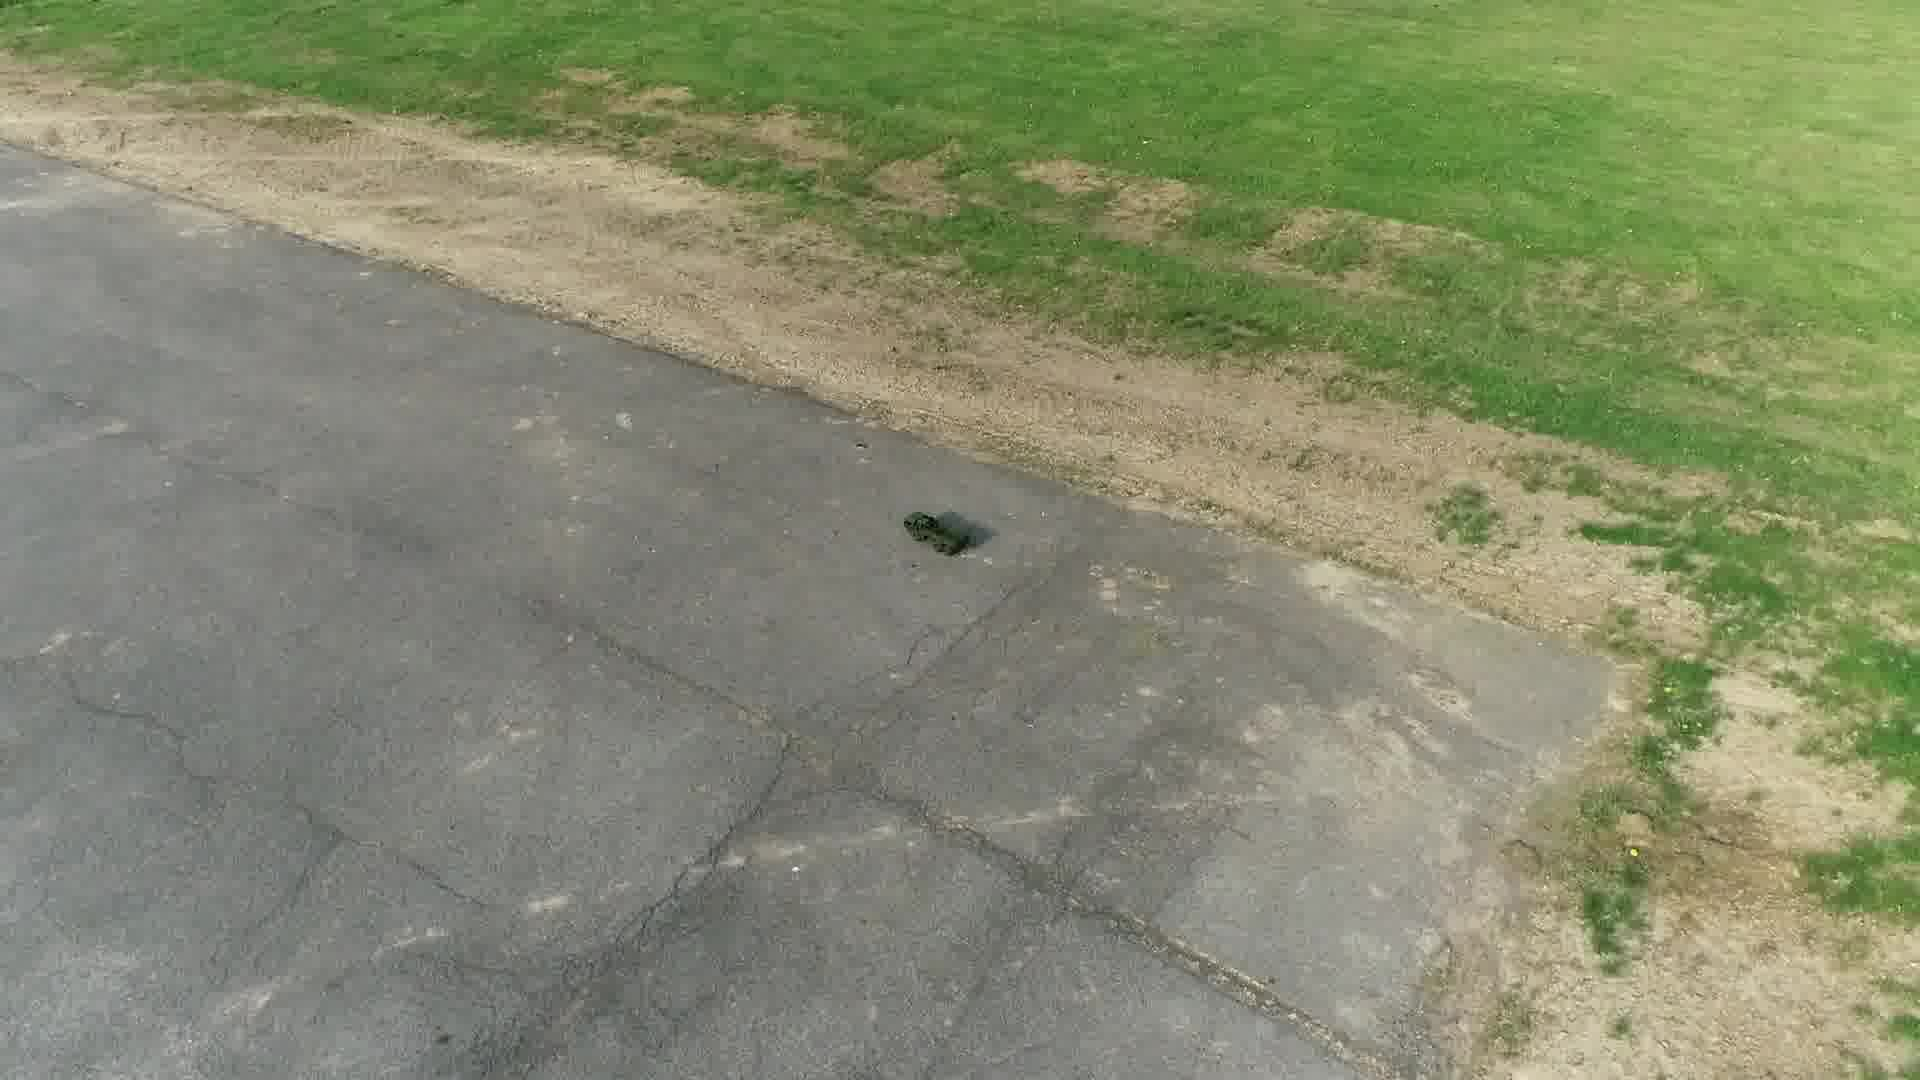transporter9: (899, 504, 969, 555)
